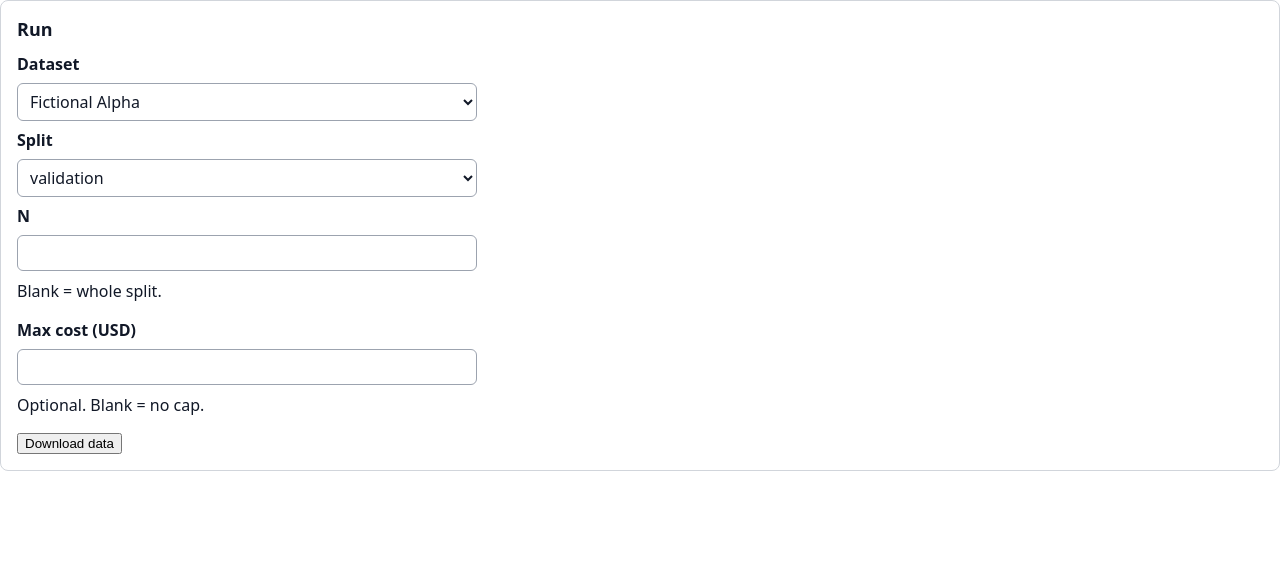
a second dataset does not inherit the first one's download failure
The image size is (1280, 572).
Click the button "Download data": {"x": 69, "y": 444} [17,433,122,454]
Wait 1000 ms
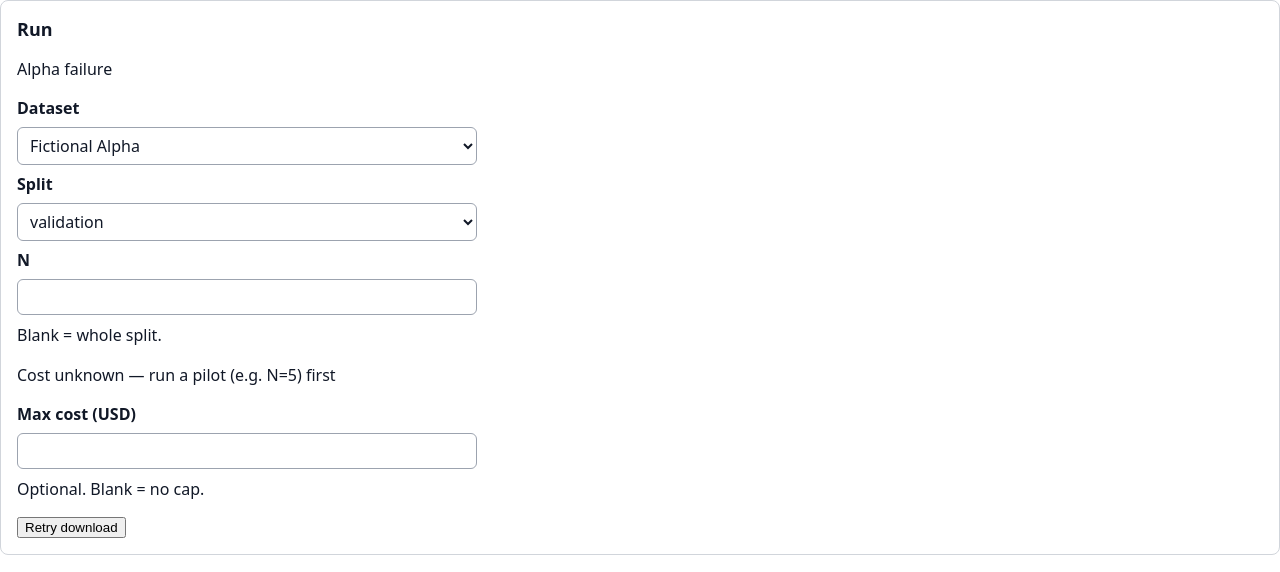
Check: the text "Alpha failure" is shown, box [17,58,112,80]
Select "Fictional Beta" in the dropdown labelled "Dataset": {"x": 247, "y": 146} [17,127,477,165]
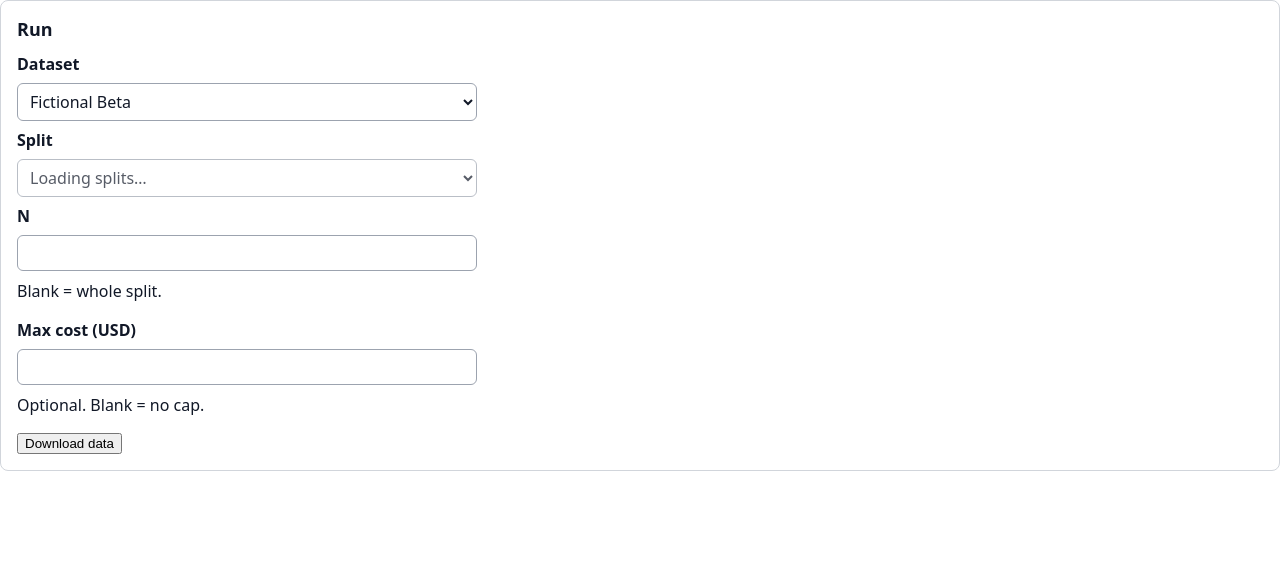
Check: the text "Alpha failure" is gone
Check: the button "Download data" is shown, box [17,433,122,454]
